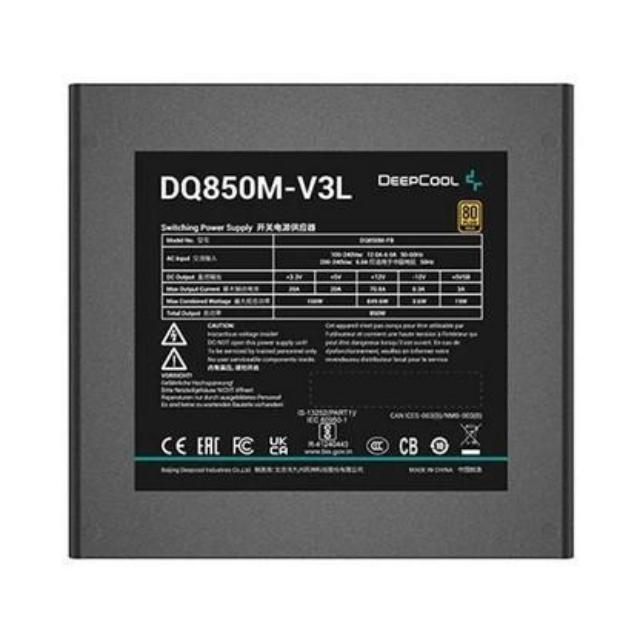PSU: (51, 62, 594, 574)
